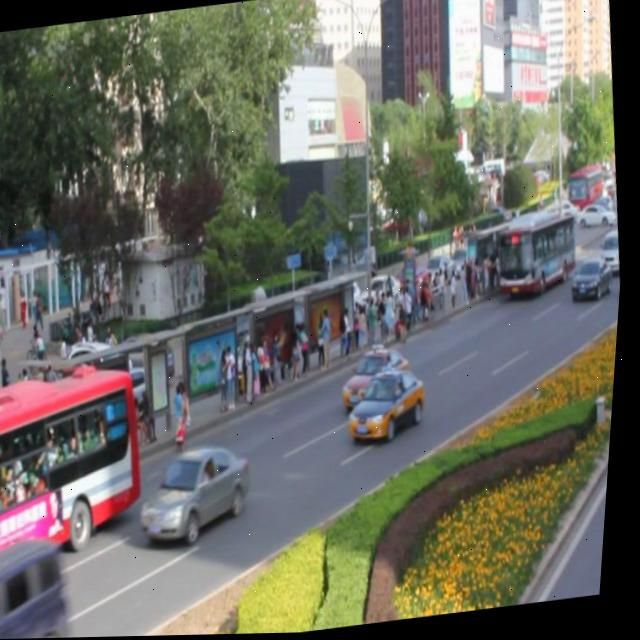car: (137, 441, 259, 547), (347, 368, 434, 449), (341, 345, 418, 412), (568, 258, 615, 308)
truck: (0, 534, 80, 640)
van: (0, 367, 158, 580), (493, 209, 583, 301)
